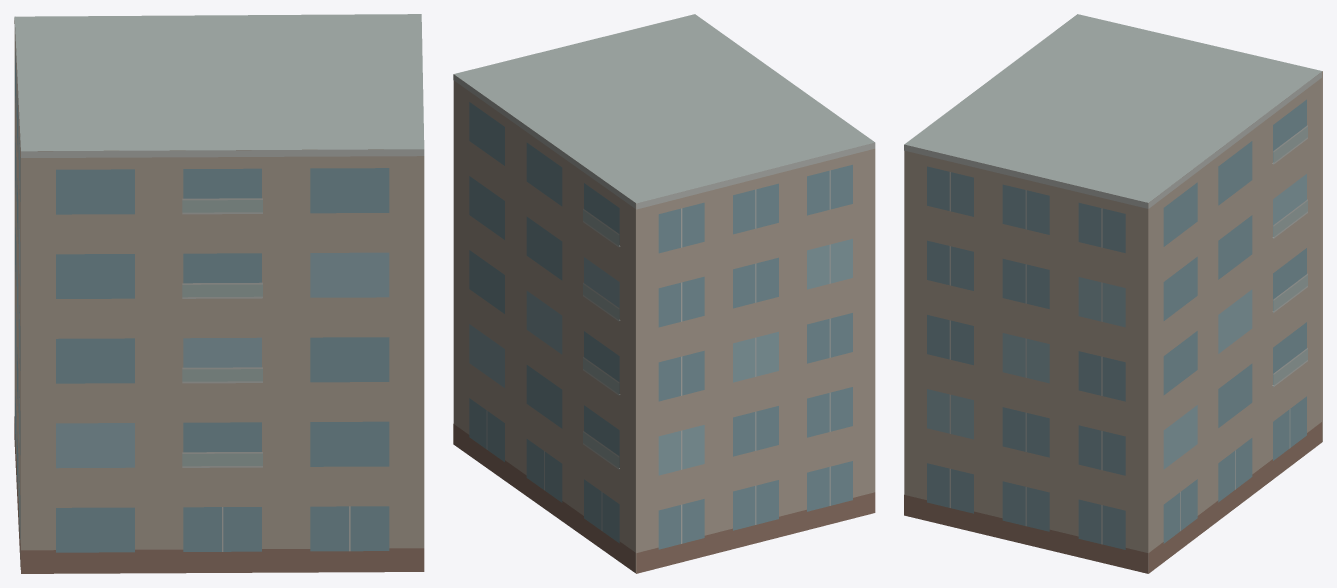
The model's file is survey-upis-32956305.glb.
The picture shows the model from 3 angles, left to right: view 1: azimuth 30°, elevation 25°; view 2: azimuth 150°, elevation 25°; view 3: azimuth 270°, elevation 25°; orthographic projection. The views are drawn at different scales.
Parts seen in each view (by area): view 1: survey-upis-32956305.tmp; view 2: survey-upis-32956305.tmp; view 3: survey-upis-32956305.tmp.
Part boxes in pixels (left/top/right/bottom): survey-upis-32956305.tmp: left=14, top=14, right=424, bottom=573; survey-upis-32956305.tmp: left=453, top=14, right=875, bottom=573; survey-upis-32956305.tmp: left=904, top=14, right=1322, bottom=573.
Size of the model in its own units: 16.23 by 14.85 by 15.2.
